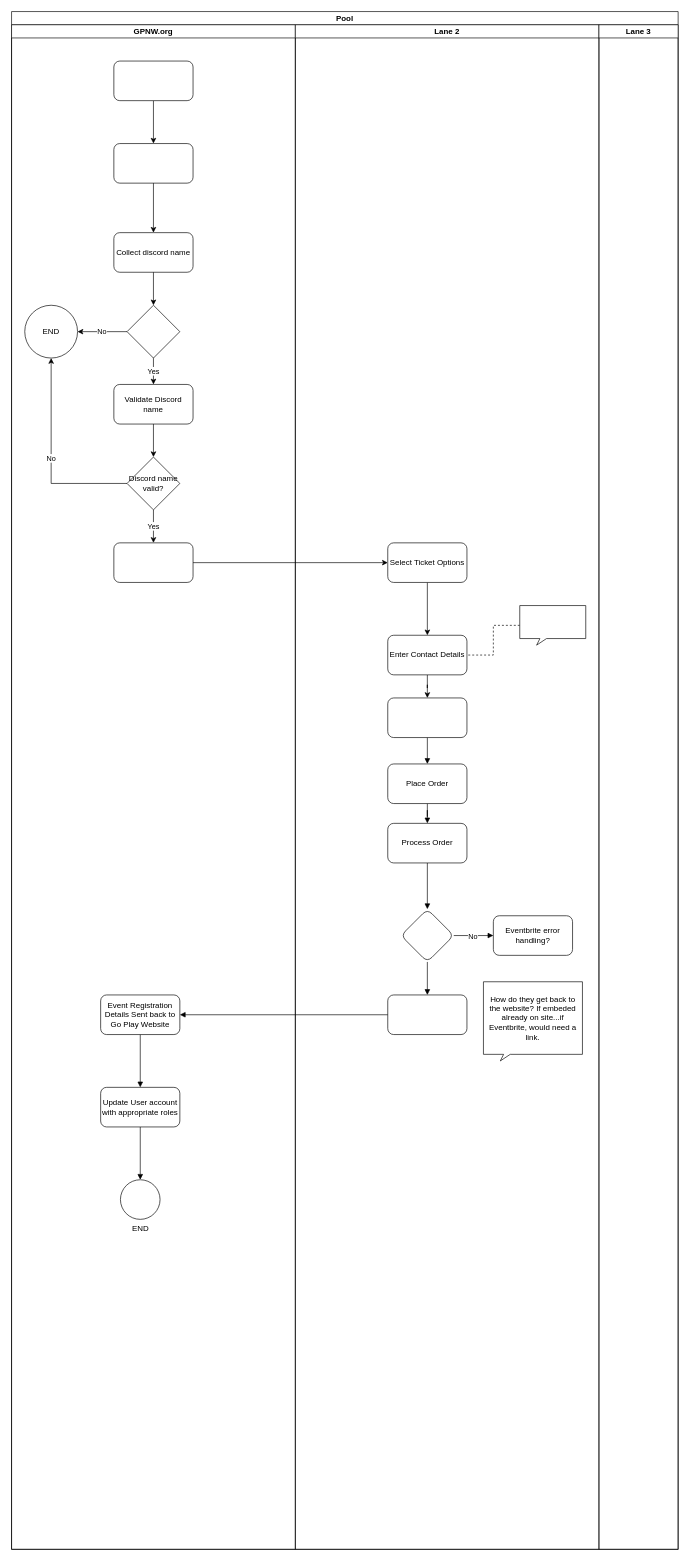
Some shapes in this 690 by 1561 pixel diagram are drawn without their labels. The shapes that lost their labels are listed below. From the top down, each one's centre as x and y in pixels, then its label:
At point (153, 80): "Click registration link".
At point (153, 163): "Fill out registration form".
At point (153, 331): "Discord name provided?".
At point (153, 562): "Click purchase link".
At point (552, 625): "What are these?".
At point (427, 717): "Enter payment method".
At point (427, 935): "Success?".
At point (427, 1014): "Order Confirmation".
